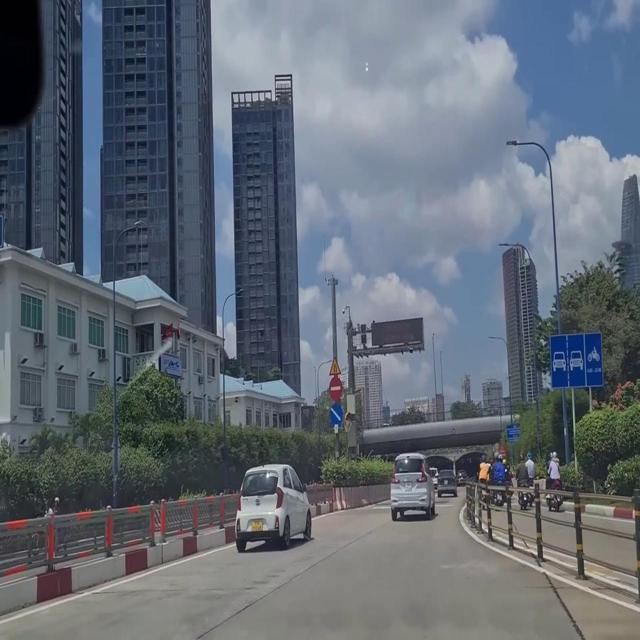Cấm đi ngược chiều: (328, 374, 343, 401)
Hướng phải đi vòng sang phải: (329, 396, 344, 426)
Khác: (507, 413, 523, 444)
Làn đường cho từng xe: (539, 314, 609, 390)
Đường hẹp: (328, 354, 341, 374)
